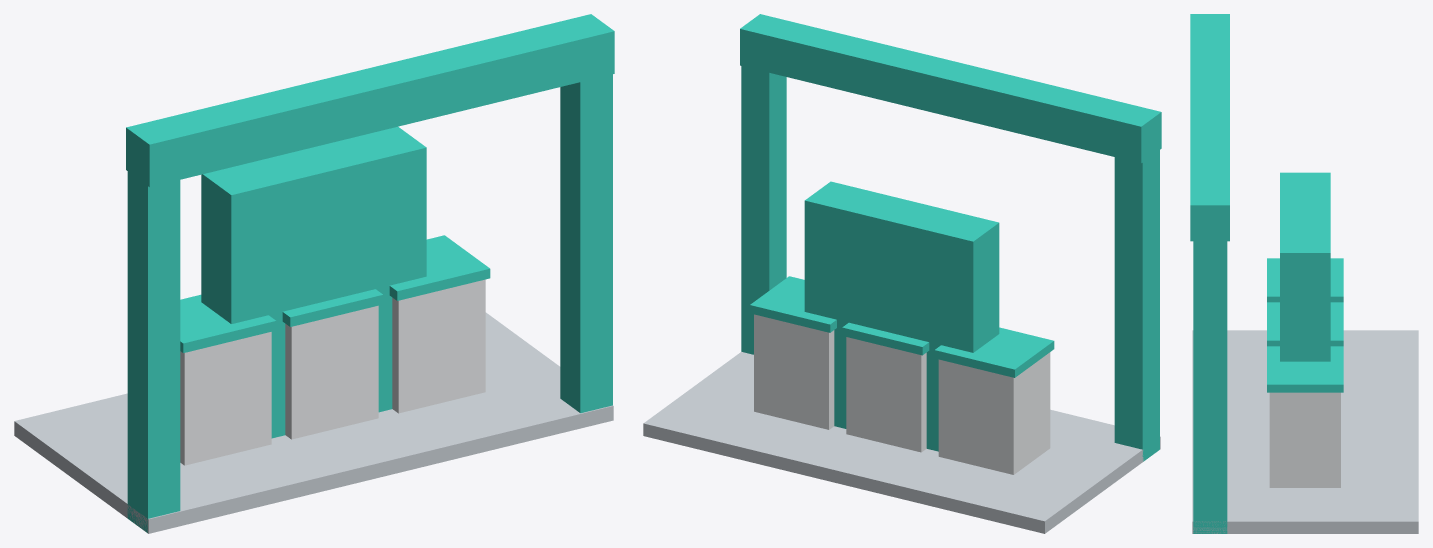
3 views of the same model, side by side, from view 1: azimuth 30°, elevation 25°; view 2: azimuth 150°, elevation 25°; view 3: azimuth 270°, elevation 25° (orthographic). The views are drawn at different scales.
Parts seen in each view (by area): view 1: Exhibition Booth Concept; view 2: Exhibition Booth Concept; view 3: Exhibition Booth Concept.
Part boxes in pixels (<box>): Exhibition Booth Concept: <box>14,14,614,533</box>; Exhibition Booth Concept: <box>643,14,1161,533</box>; Exhibition Booth Concept: <box>1190,14,1418,533</box>.
Size of the model in its own units: 4 by 3.2 by 2.01.
